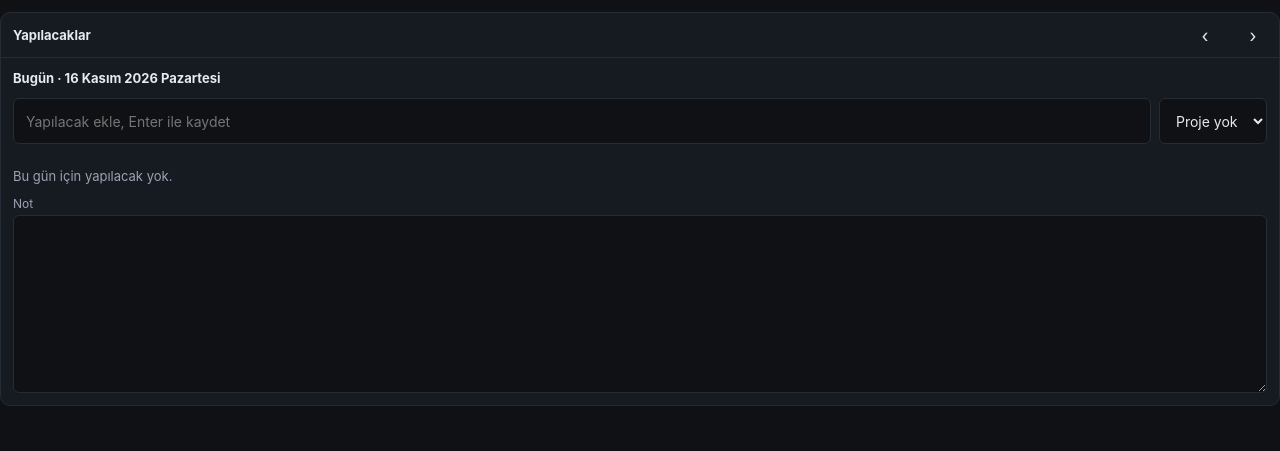
it: TodoPanel › shows engine errors
Type "x" into the field named "Yeni yapılacak" at (582, 121), box [13,98,1151,144]
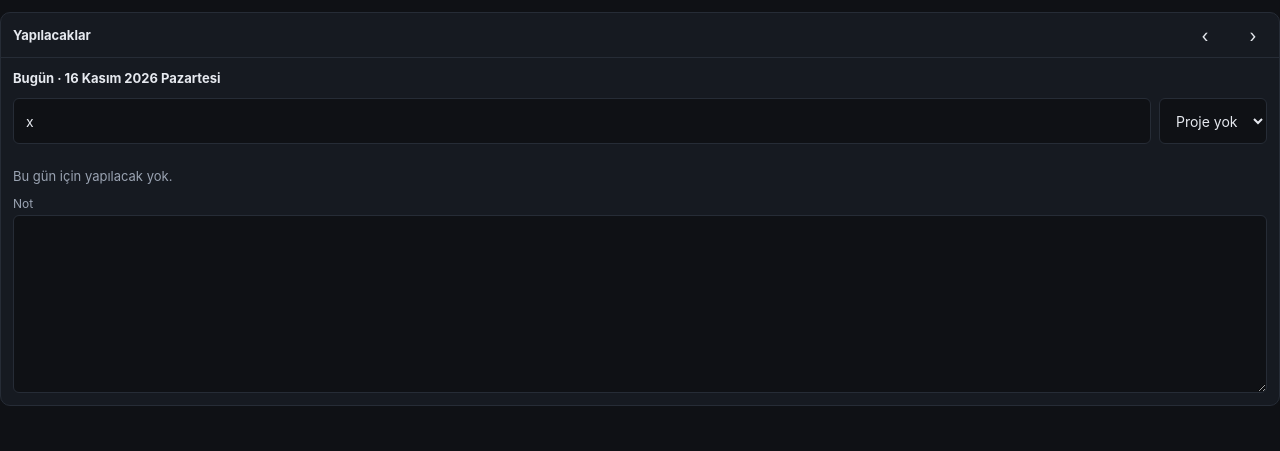
Press Enter in the field named "Yeni yapılacak", box [13,98,1151,144]
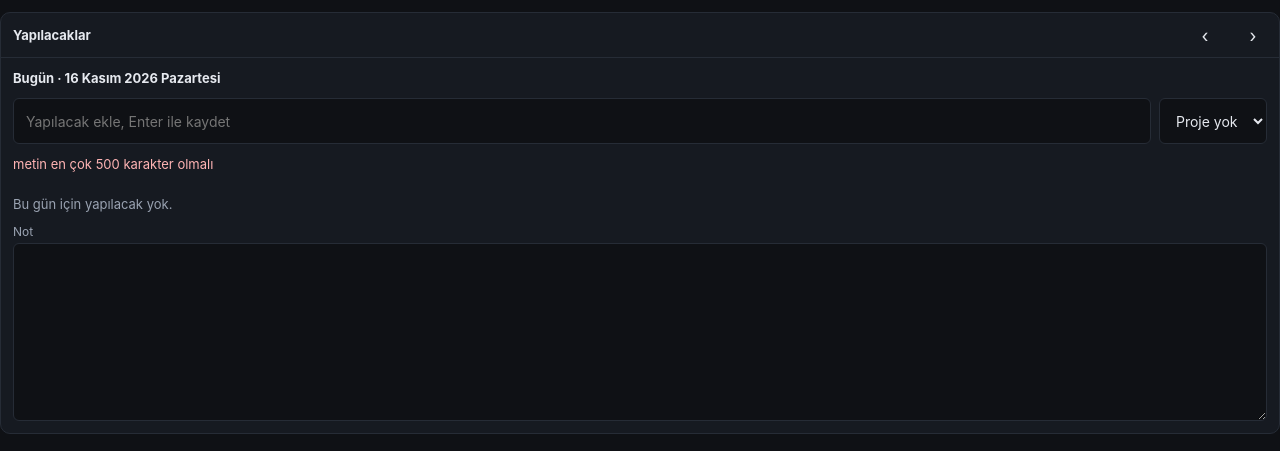
Check: the message shows "500", box [13,156,213,172]
